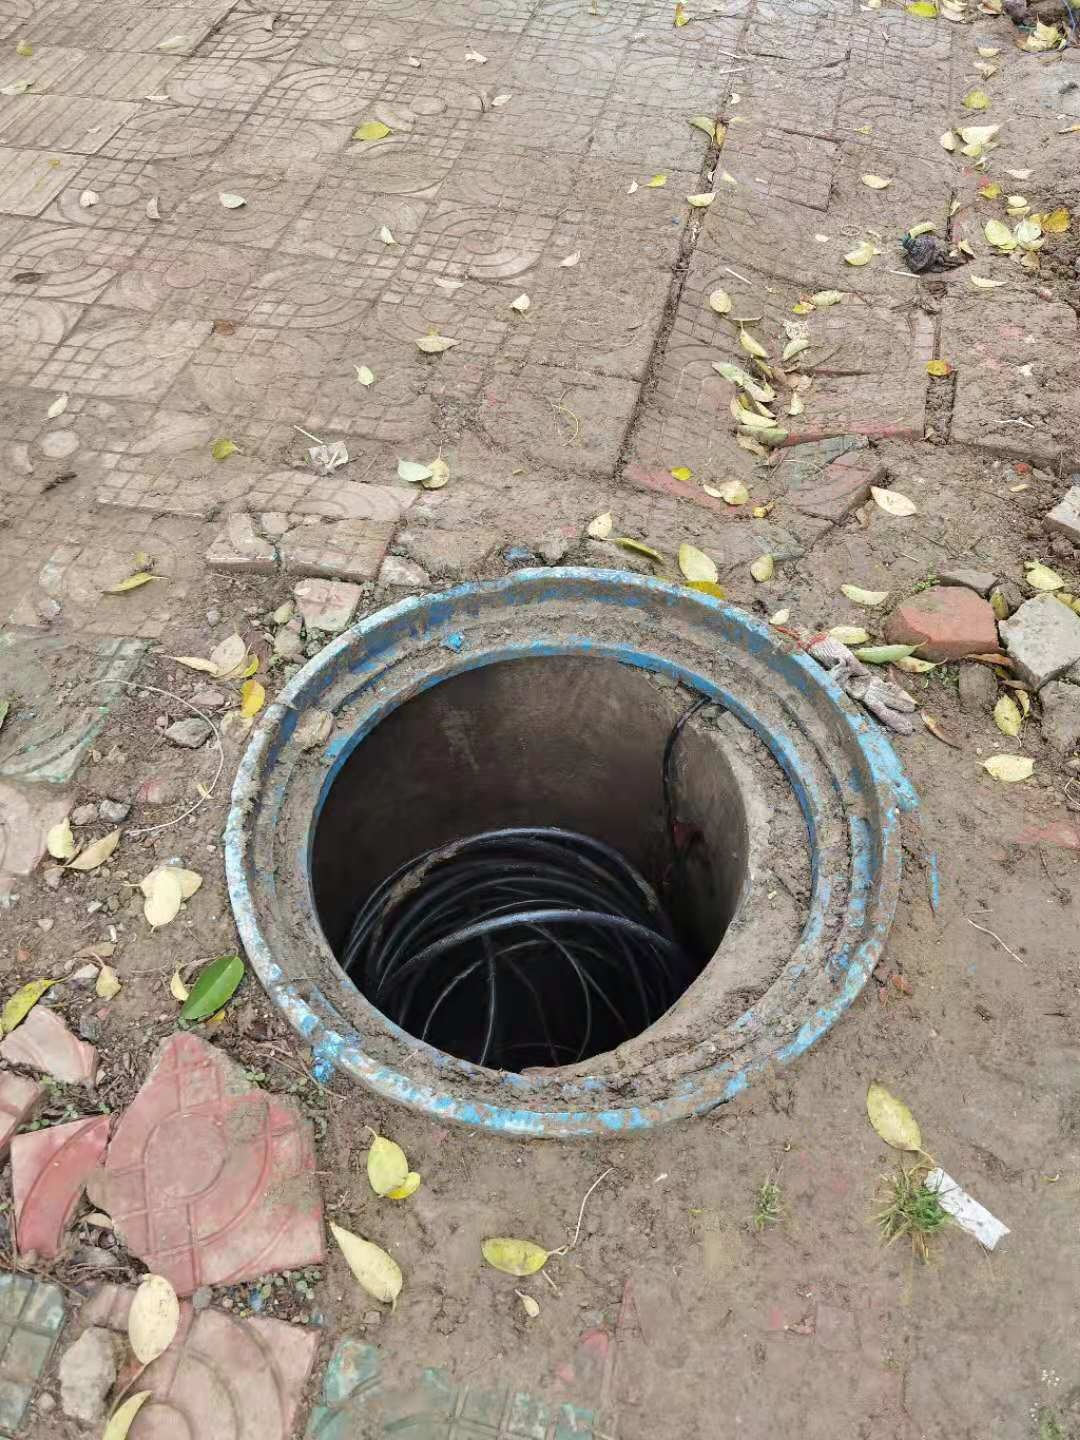well: (218, 567, 904, 1132)
